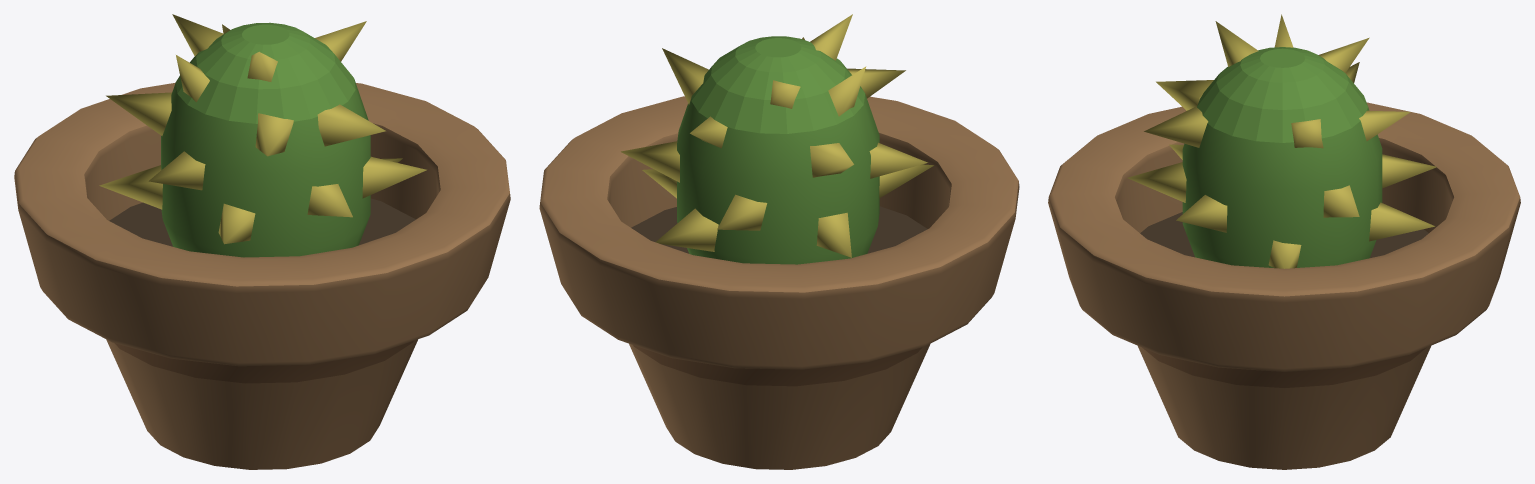
Rendered from 04cactusspikey_nieuwestijl.fbx.
3 views of the same model, side by side, from view 1: azimuth 30°, elevation 25°; view 2: azimuth 150°, elevation 25°; view 3: azimuth 270°, elevation 25° (orthographic). The views are drawn at different scales.
Visible parts, largest first — view 1: pCone18; view 2: pCone18; view 3: pCone18.
Boxes of the visible parts, box(x1,y1,x2,y2) form: pCone18: box(14, 14, 510, 469); pCone18: box(539, 14, 1019, 469); pCone18: box(1048, 14, 1520, 469).
Size of the model in its own units: 1.13 by 1.02 by 1.13.
